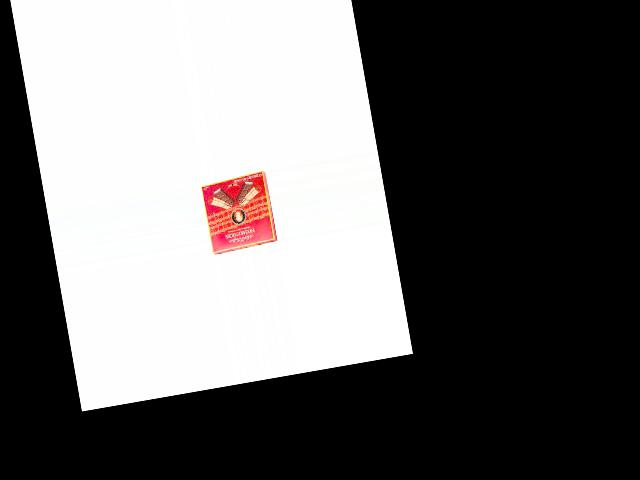chocolate: (198, 168, 278, 254)
